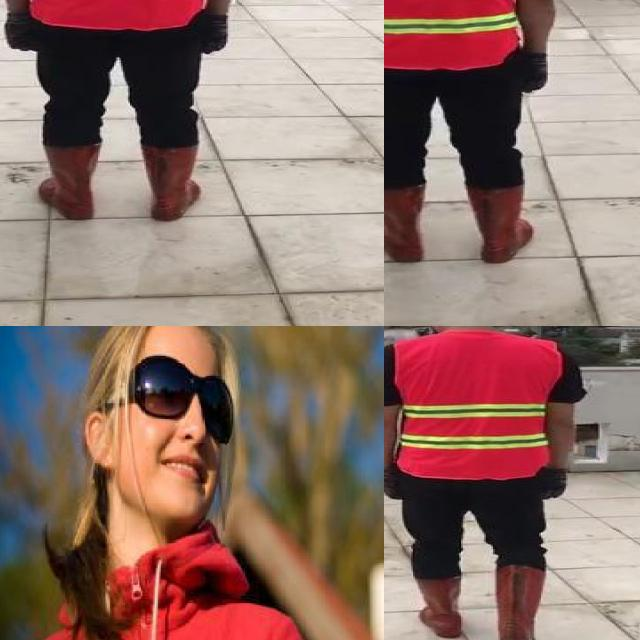No_Ear-Protection: (83, 412, 118, 474)
boots: (466, 186, 532, 265), (36, 143, 103, 219), (141, 143, 203, 220), (494, 564, 548, 640), (413, 575, 468, 638), (384, 186, 427, 265)
face_nomask: (126, 352, 230, 490)
glasses: (100, 352, 239, 450)
hand_glove: (2, 14, 36, 52), (520, 52, 548, 92), (204, 14, 230, 53), (541, 468, 568, 501), (384, 467, 404, 501)
head_nohelmet: (104, 326, 223, 355)
person: (0, 326, 332, 640), (384, 326, 588, 640), (0, 0, 244, 232), (384, 0, 568, 266)
vest: (394, 333, 560, 476), (384, 0, 528, 70)
